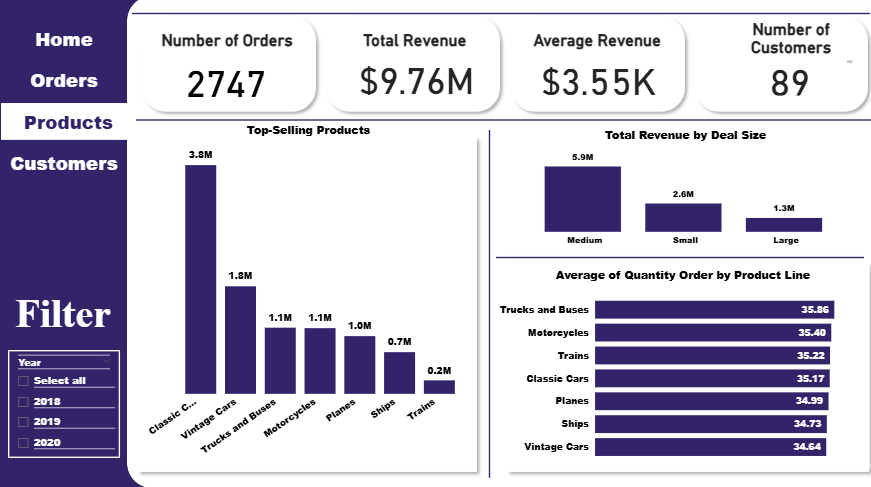

Layout of this report page (visuals, bound fields, positions):
{"tool":"powerbi","page":{"name":"Products","canvas":[1280,720],"ordinal":3},"visuals":[{"type":"shape","box":[739.9,20.1,272.4,157.9],"z":0,"group":"g1"},{"type":"slicer","fields":{"Values":["Orders.Year"]},"box":[11.7,360,162.4,125.9],"z":0},{"type":"shape","box":[1009.2,20.1,270.9,157.9],"z":1000,"group":"g1"},{"type":"actionButton","box":[640,36.3,152.9,52],"z":1000},{"type":"shape","box":[469,20.1,272.4,157.9],"z":2000,"group":"g1"},{"type":"shape","box":[766.1,244.3,290,138.7],"z":2000},{"type":"shape","box":[0,0,1056.6,720],"z":3000},{"type":"shape","box":[199.7,20.1,272.4,157.9],"z":3000,"group":"g1"},{"type":"shape","box":[185.9,0,1094.6,720],"z":4000},{"type":"textbox","title":"Number of Orders","box":[208.4,50.9,249.2,29.4],"z":4000,"group":"g1"},{"type":"actionButton","box":[1.5,35.1,184.4,54.1],"z":5000},{"type":"actionButton","box":[1.5,95.6,184.4,54.1],"z":6000},{"type":"textbox","title":"Total Revenue","box":[489.1,51.1,249.2,29.4],"z":7000},{"type":"actionButton","box":[1.5,216.6,184.4,54.1],"z":8000},{"type":"actionButton","box":[1.5,156.6,197.6,54.1],"z":9000},{"type":"group","id":"g1","title":"Group 1","box":[199.7,20.1,1080.3,157.9],"z":10000},{"type":"card","fields":{"Values":["Orders.NumberOf Orders"]},"box":[230.6,85.1,198.1,74.3],"z":11000},{"type":"textbox","title":"Total Revenue","box":[489.1,51.1,236.8,29.4],"z":12000},{"type":"textbox","title":"Average Revenue","box":[760,51.1,229.1,29.4],"z":13000},{"type":"textbox","title":"Number of Customers","box":[1061.8,35.6,190.4,68.1],"z":14000},{"type":"card","fields":{"Values":["Orders.Total Revenue"]},"box":[501.5,85.1,215.1,65],"z":15000},{"type":"card","fields":{"Values":["Orders.AVG Sales"]},"box":[778.5,88.2,195,61.9],"z":16000},{"type":"card","fields":{"Values":["Customers.NumberOf Customers"]},"box":[1114.4,91.3,85.1,60.4],"z":17000},{"type":"shape","box":[199,36.6,1080,289.8],"z":18000},{"type":"shape","box":[193.2,0,1080,51.2],"z":19000},{"type":"shape","box":[193.2,197.6,513.7,507.8],"z":20000},{"type":"columnChart","title":"Top-Selling Products","fields":{"Category":["Products.Product Line"],"Y":["Sum(Orders.Sales)"]},"box":[207.8,184.4,487.3,507.8],"z":21000},{"type":"shape","box":[566.3,196.1,300,509.3],"z":22000},{"type":"shape","box":[733.2,383.4,547.3,322],"z":23000},{"type":"barChart","fields":{"Category":["Products.Product Line"],"Y":["Avg(Orders.Quantity Order)"]},"box":[725.9,396.6,547.3,295.6],"z":24000},{"type":"shape","box":[725.9,232.7,538.5,300],"z":25000},{"type":"shape","box":[725.9,188.8,547.3,188.8],"z":26000},{"type":"columnChart","title":"Total Revenue by Deal Size","fields":{"Category":["Orders.Deal Size"],"Y":["Sum(Orders.Sales)"]},"box":[733.2,191.7,540,184.4],"z":27000},{"type":"slicer","fields":{"Values":["Orders.Year"]},"box":[11.7,518,163.9,158],"z":27001},{"type":"textbox","box":[10.2,425.9,163.9,115.6],"z":27002}]}

Visuals, with their boxes in screenshot pixels (x1, y1, x2, y2), scaled from the page's 1280x720 canvas onto the 871x487 screenshot:
shape: (503,14,689,120)
slicer - Orders.Year: (8,244,118,329)
shape: (687,14,870,120)
actionButton: (436,25,540,60)
shape: (319,14,504,120)
shape: (521,165,719,259)
shape: (0,0,719,486)
shape: (136,14,321,120)
shape: (126,0,870,486)
"Number of Orders" textbox: (142,34,311,54)
actionButton: (1,24,126,60)
actionButton: (1,65,126,101)
"Total Revenue" textbox: (333,35,502,54)
actionButton: (1,147,126,183)
actionButton: (1,106,135,143)
"Group 1" group: (136,14,870,120)
card - Orders.NumberOf Orders: (157,58,292,108)
"Total Revenue" textbox: (333,35,494,54)
"Average Revenue" textbox: (517,35,673,54)
"Number of Customers" textbox: (723,24,852,70)
card - Orders.Total Revenue: (341,58,488,102)
card - Orders.AVG Sales: (530,60,662,102)
card - Customers.NumberOf Customers: (758,62,816,103)
shape: (135,25,870,221)
shape: (131,0,866,35)
shape: (131,134,481,477)
"Top-Selling Products" columnChart: (141,125,473,468)
shape: (385,133,589,477)
shape: (499,259,870,477)
barChart - Products.Product Line x Avg(Orders.Quantity Order): (494,268,866,468)
shape: (494,157,860,360)
shape: (494,128,866,255)
"Total Revenue by Deal Size" columnChart: (499,130,866,254)
slicer - Orders.Year: (8,350,119,457)
textbox: (7,288,118,366)
